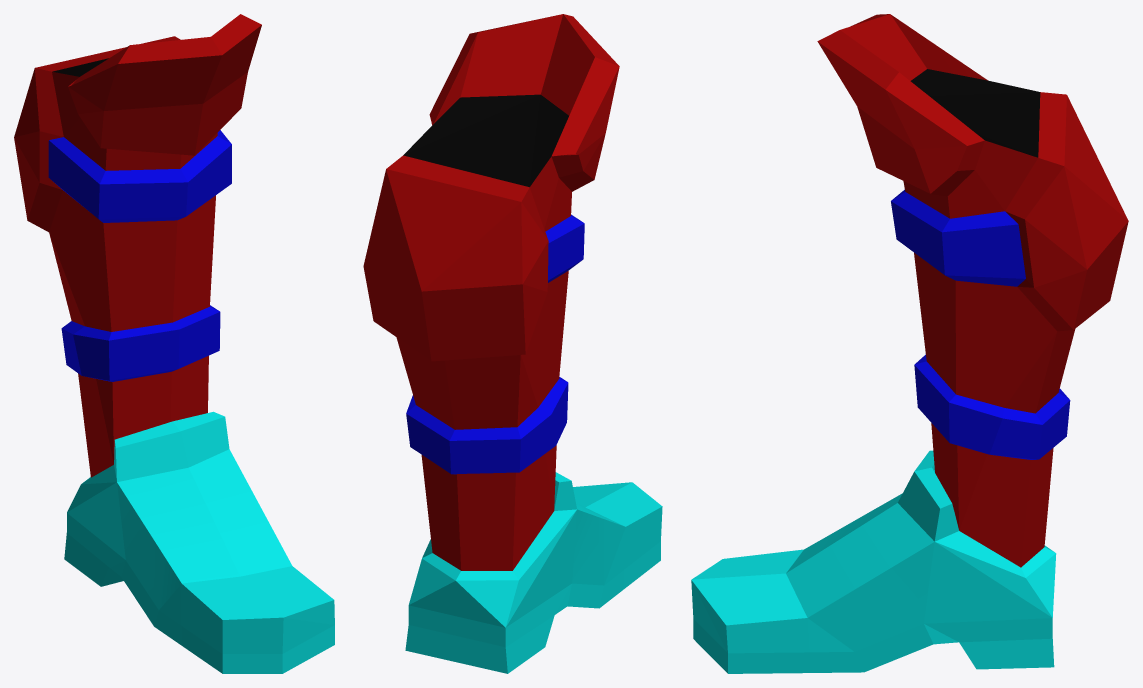
The model's file is Chr_LegRight_Male_Static_10.fbx.
3 renders of one model, left to right at view 1: azimuth 30°, elevation 25°; view 2: azimuth 150°, elevation 25°; view 3: azimuth 270°, elevation 25°, orthographic. The views are drawn at different scales.
Parts seen in each view (by area): view 1: Chr_LegRight_Male_10; view 2: Chr_LegRight_Male_10; view 3: Chr_LegRight_Male_10.
Boxes of the visible parts, left/top/right/bottom form: Chr_LegRight_Male_10: left=14, top=14, right=334, bottom=673; Chr_LegRight_Male_10: left=363, top=14, right=662, bottom=673; Chr_LegRight_Male_10: left=691, top=14, right=1128, bottom=673.
Size of the model in its own units: 13.26 by 45.46 by 29.62.
